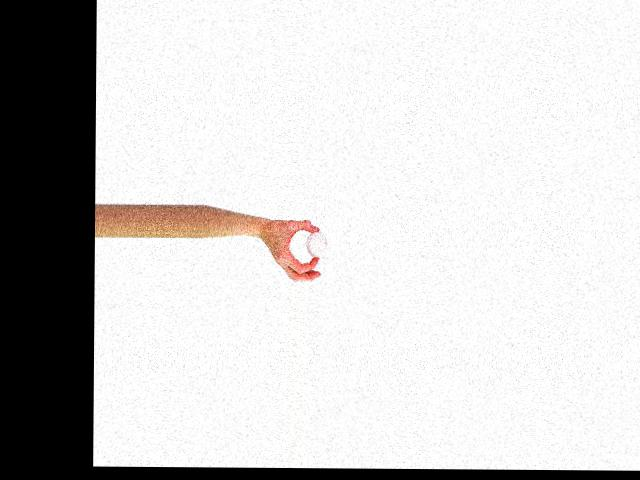egg: (305, 231, 327, 257)
